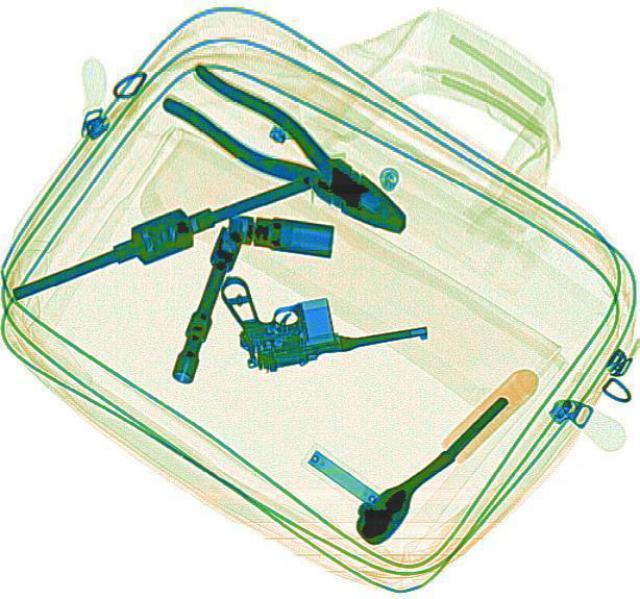Gun: (217, 244, 433, 375)
Pliers: (157, 55, 426, 252)
